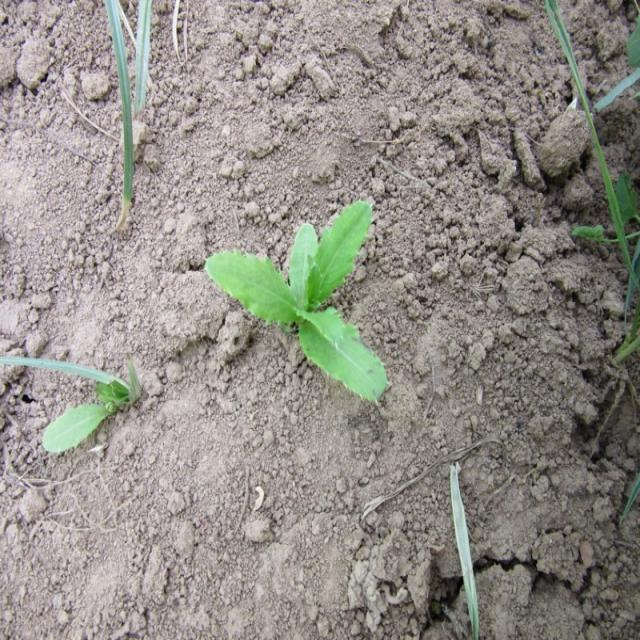field_thistle: (213, 185, 403, 392)
